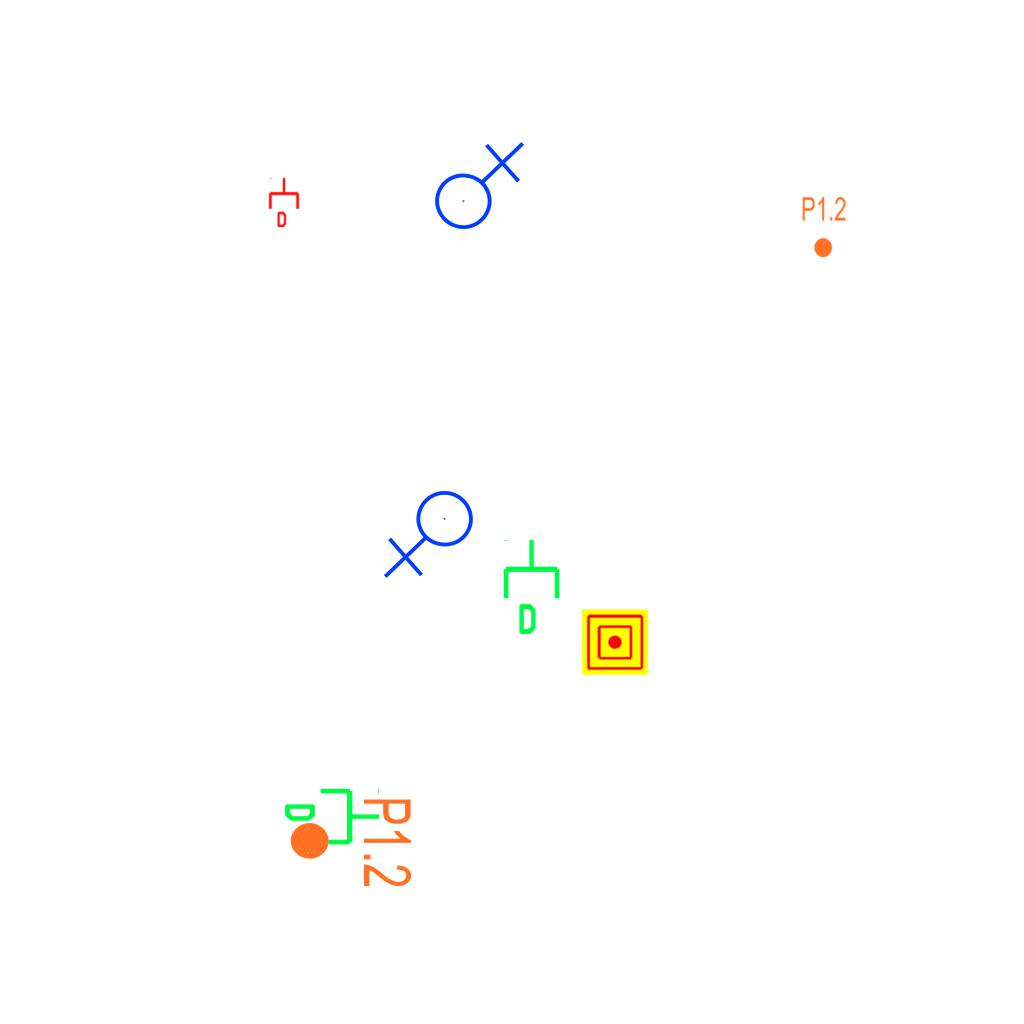Datenanschluss_einfach: (499, 537, 568, 637), (282, 784, 382, 853), (267, 177, 301, 227)
Downlight_LED_Einbauleuchten_Flur: (287, 796, 415, 889), (801, 195, 847, 259)
Elektroanschluss_allgemein_230V_Geraeteanschlussdose_230V: (426, 137, 525, 231), (383, 489, 482, 583)
NAM-Nichtautomatischer_Melder: (582, 609, 648, 675)
